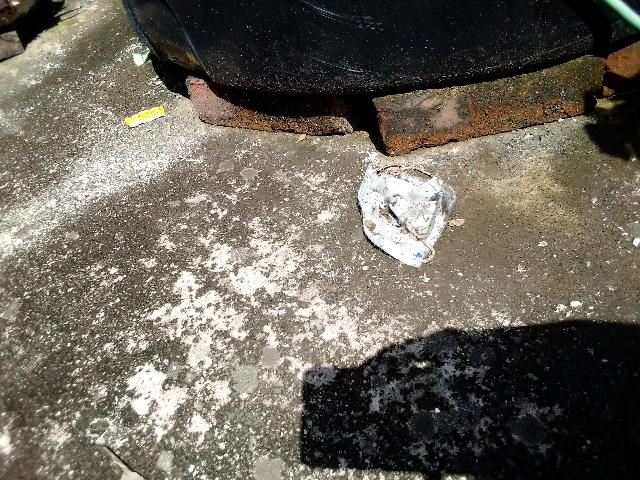mask: (343, 146, 498, 294)
